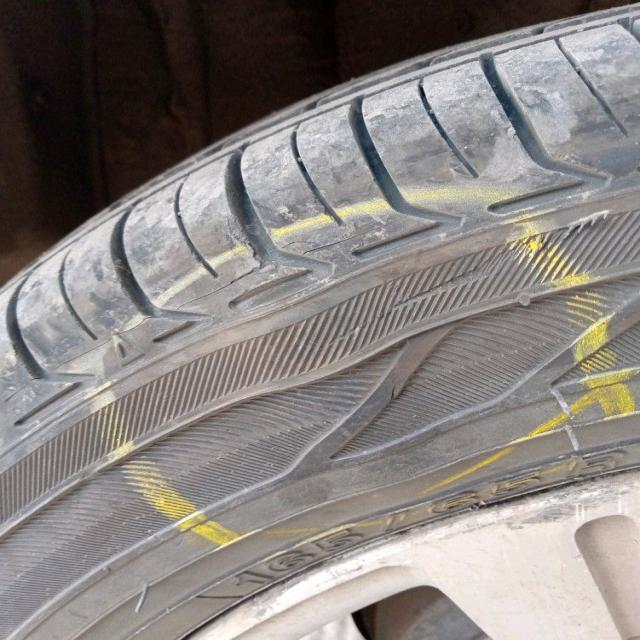Bulge: (264, 301, 445, 522)
